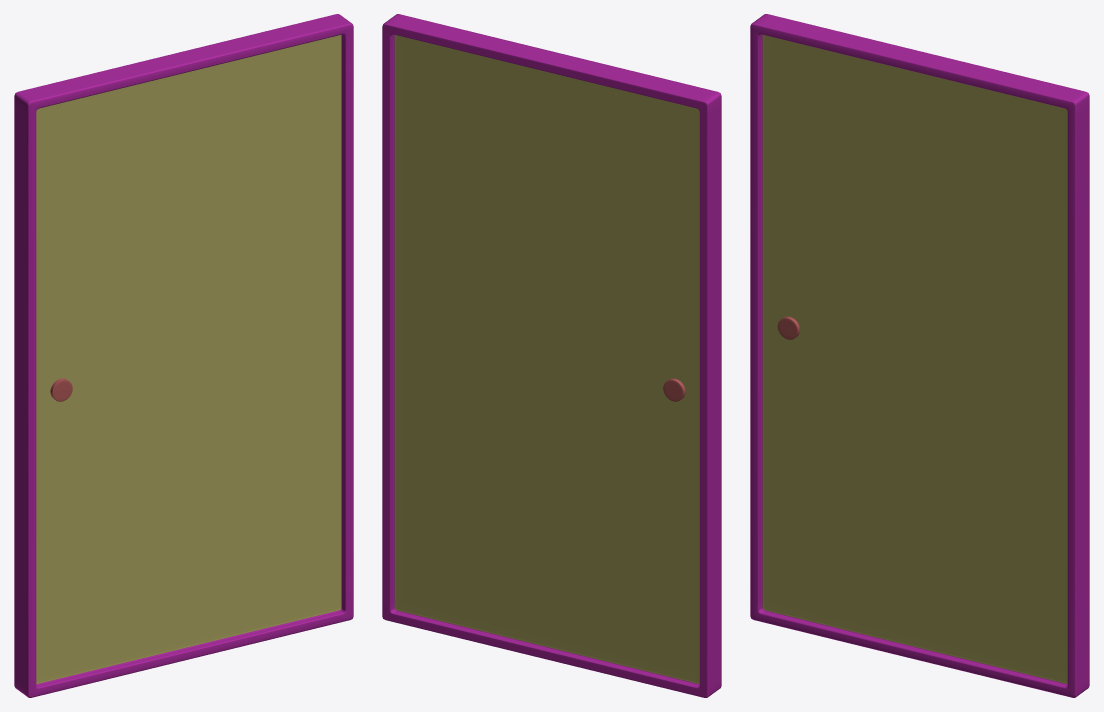
File: MainDoor.fbx
3 renders of one model, left to right at view 1: azimuth 30°, elevation 25°; view 2: azimuth 150°, elevation 25°; view 3: azimuth 330°, elevation 25°, orthographic.
Visible parts, largest first — view 1: MainDoor; view 2: MainDoor; view 3: MainDoor.
Boxes of the visible parts, bbox=[...] form: MainDoor: bbox=[14, 14, 353, 697]; MainDoor: bbox=[382, 14, 721, 697]; MainDoor: bbox=[750, 14, 1089, 697].
Bounding box in the file's own units: 4 × 7 × 0.3.
